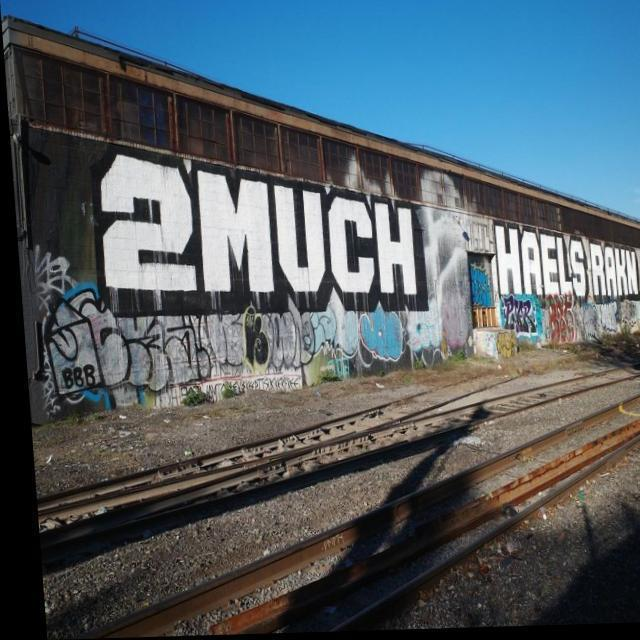nonspitting: (93, 142, 430, 314), (31, 249, 317, 408), (494, 223, 640, 304), (406, 294, 469, 360), (357, 303, 404, 369), (311, 309, 360, 357), (498, 290, 542, 342), (546, 290, 579, 345), (466, 264, 494, 309)
